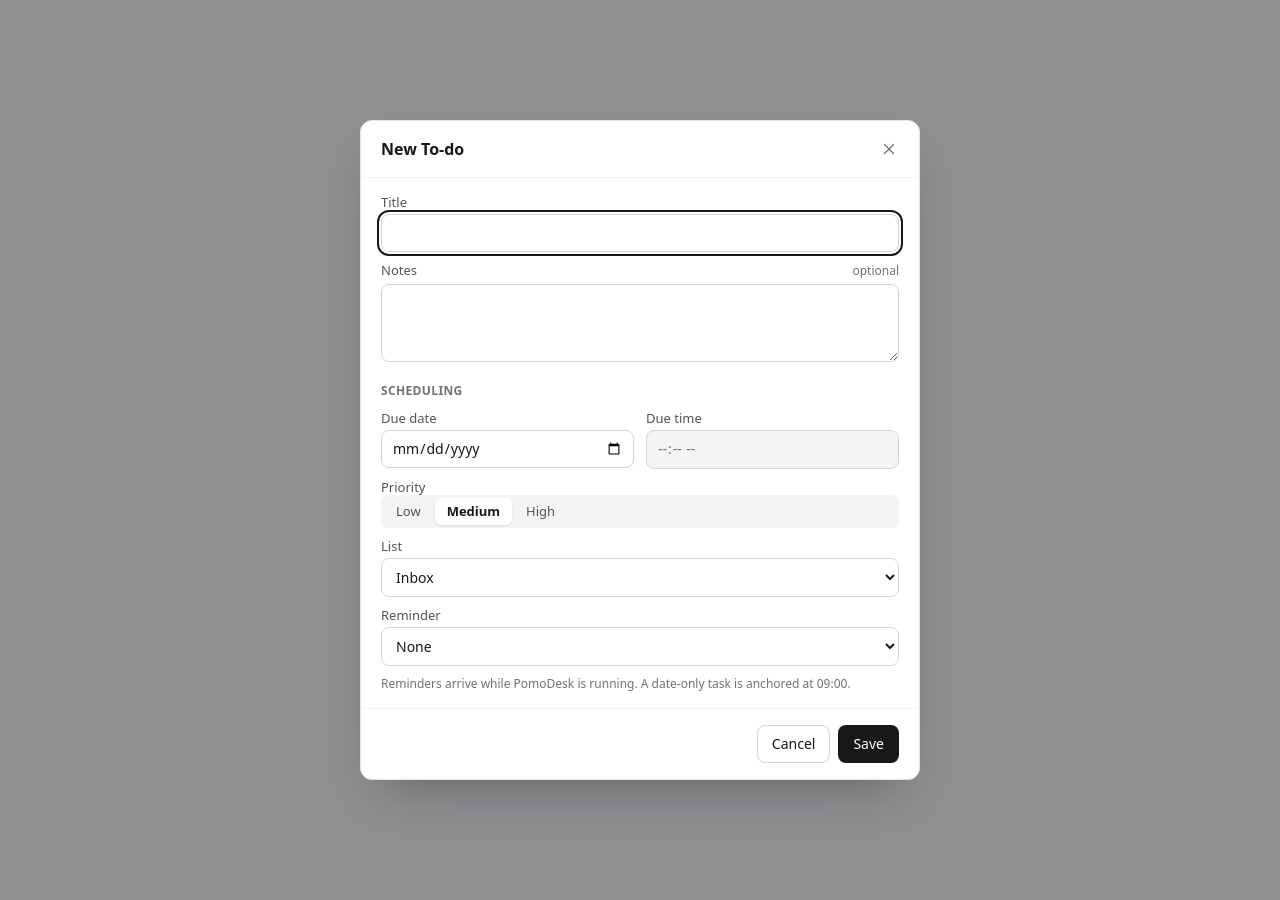
TodoDialog › refuses a reminder that has no due date
Type "Task" into the field labelled "Title" at (640, 233), box [381, 214, 899, 252]
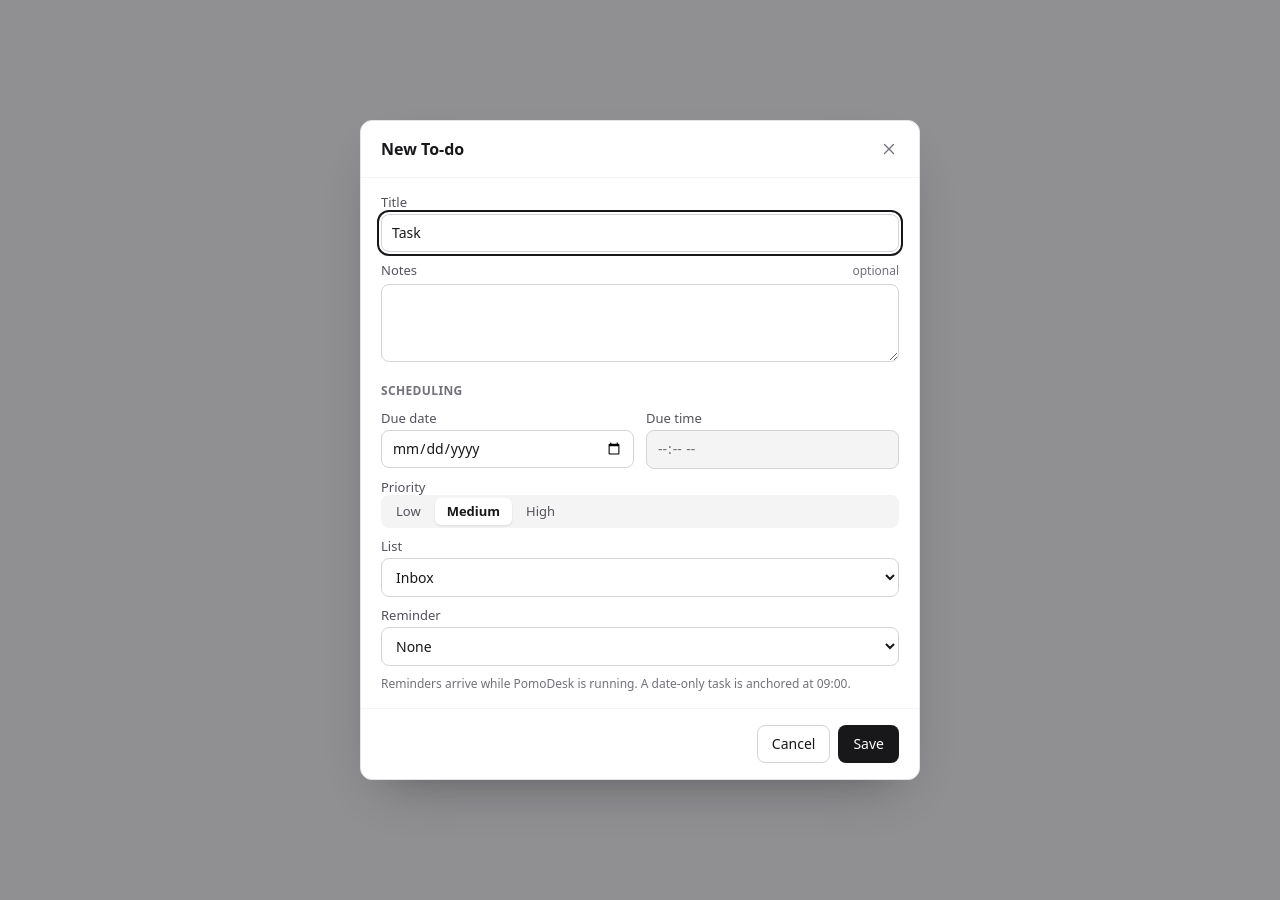
Select "At due time" in the dropdown labelled "Reminder" at (640, 647), box [381, 627, 899, 666]
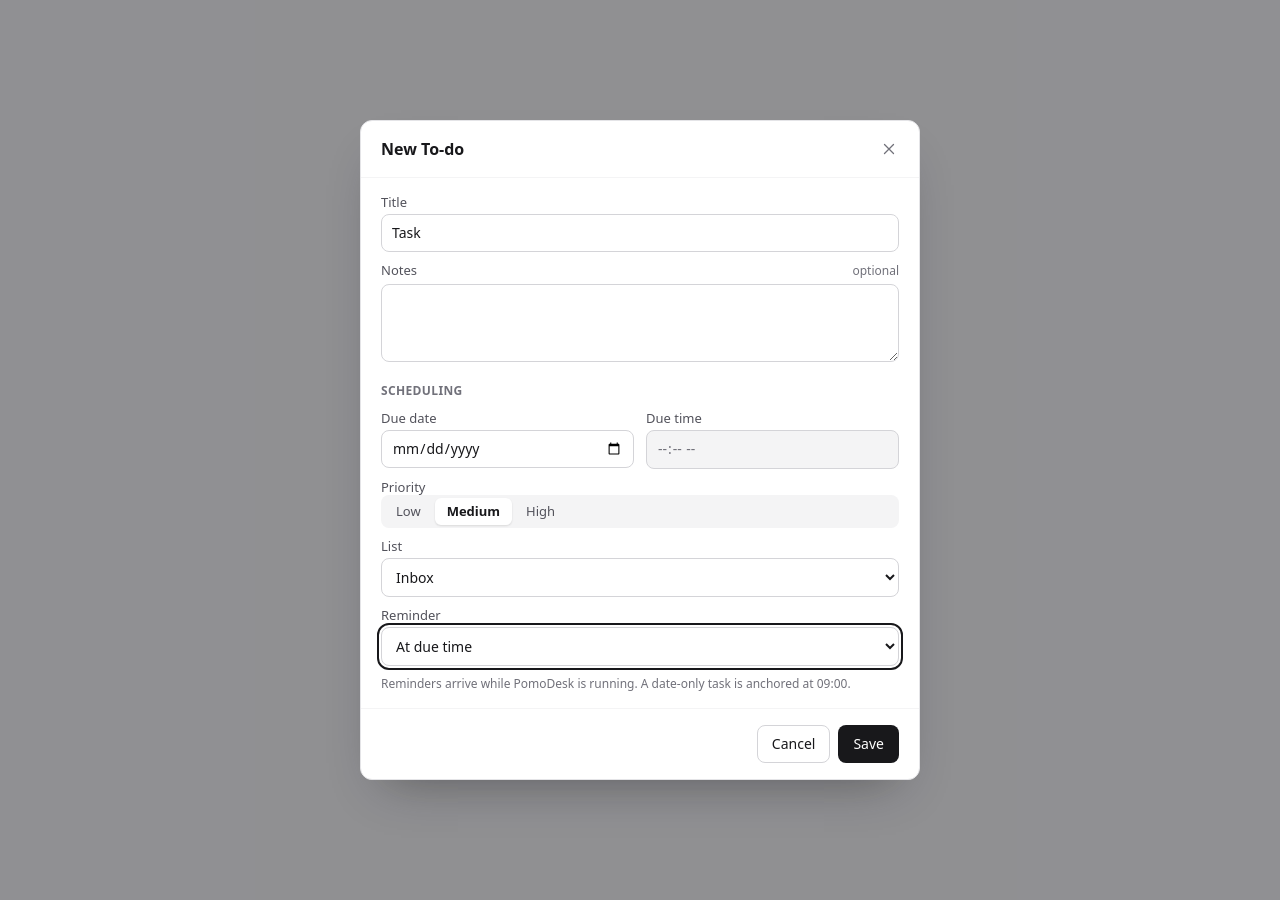
Click the button "Save" at (869, 744), box [838, 725, 899, 763]
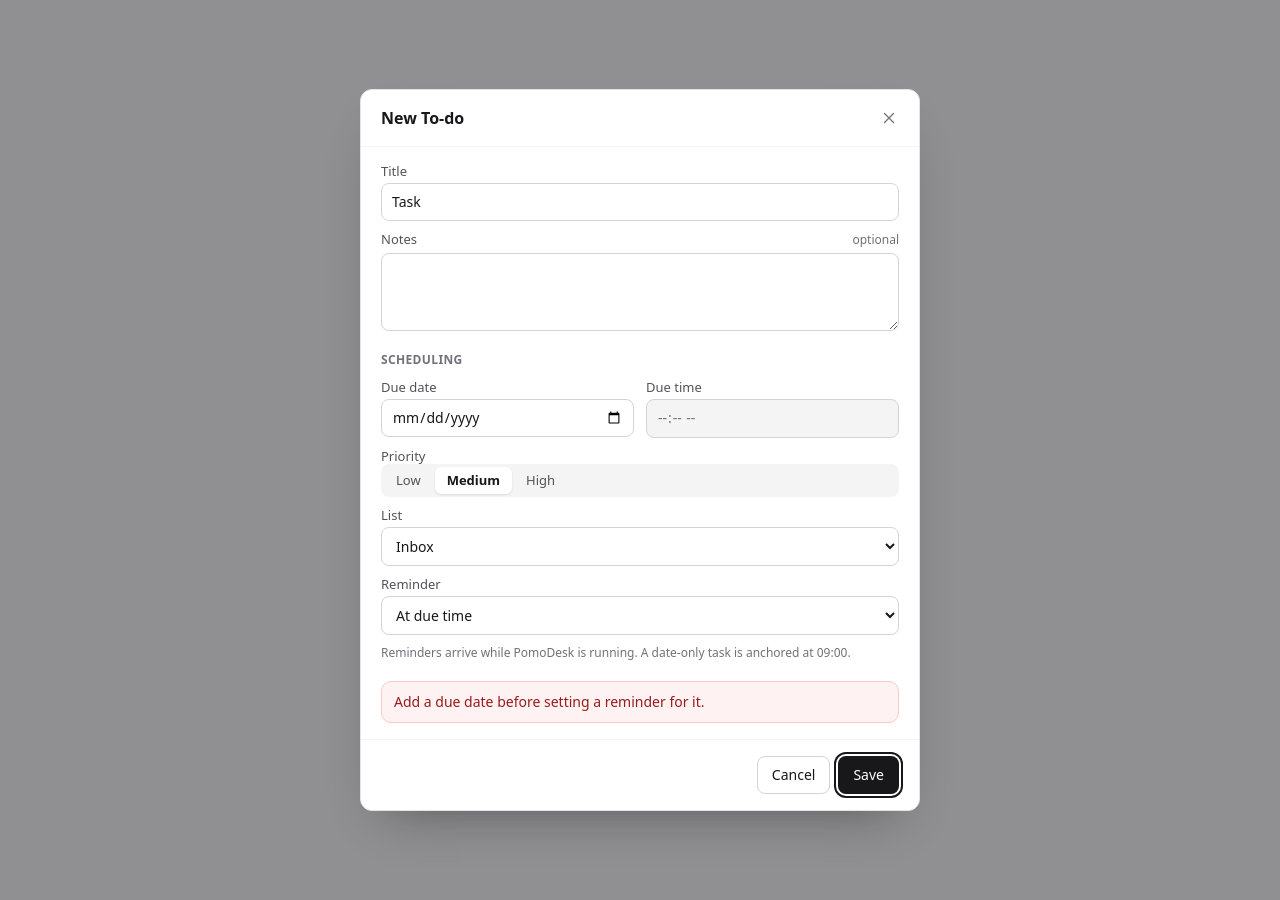
Check: the message reads "Add a due date before setting a reminder for it.", box [394, 692, 704, 711]
